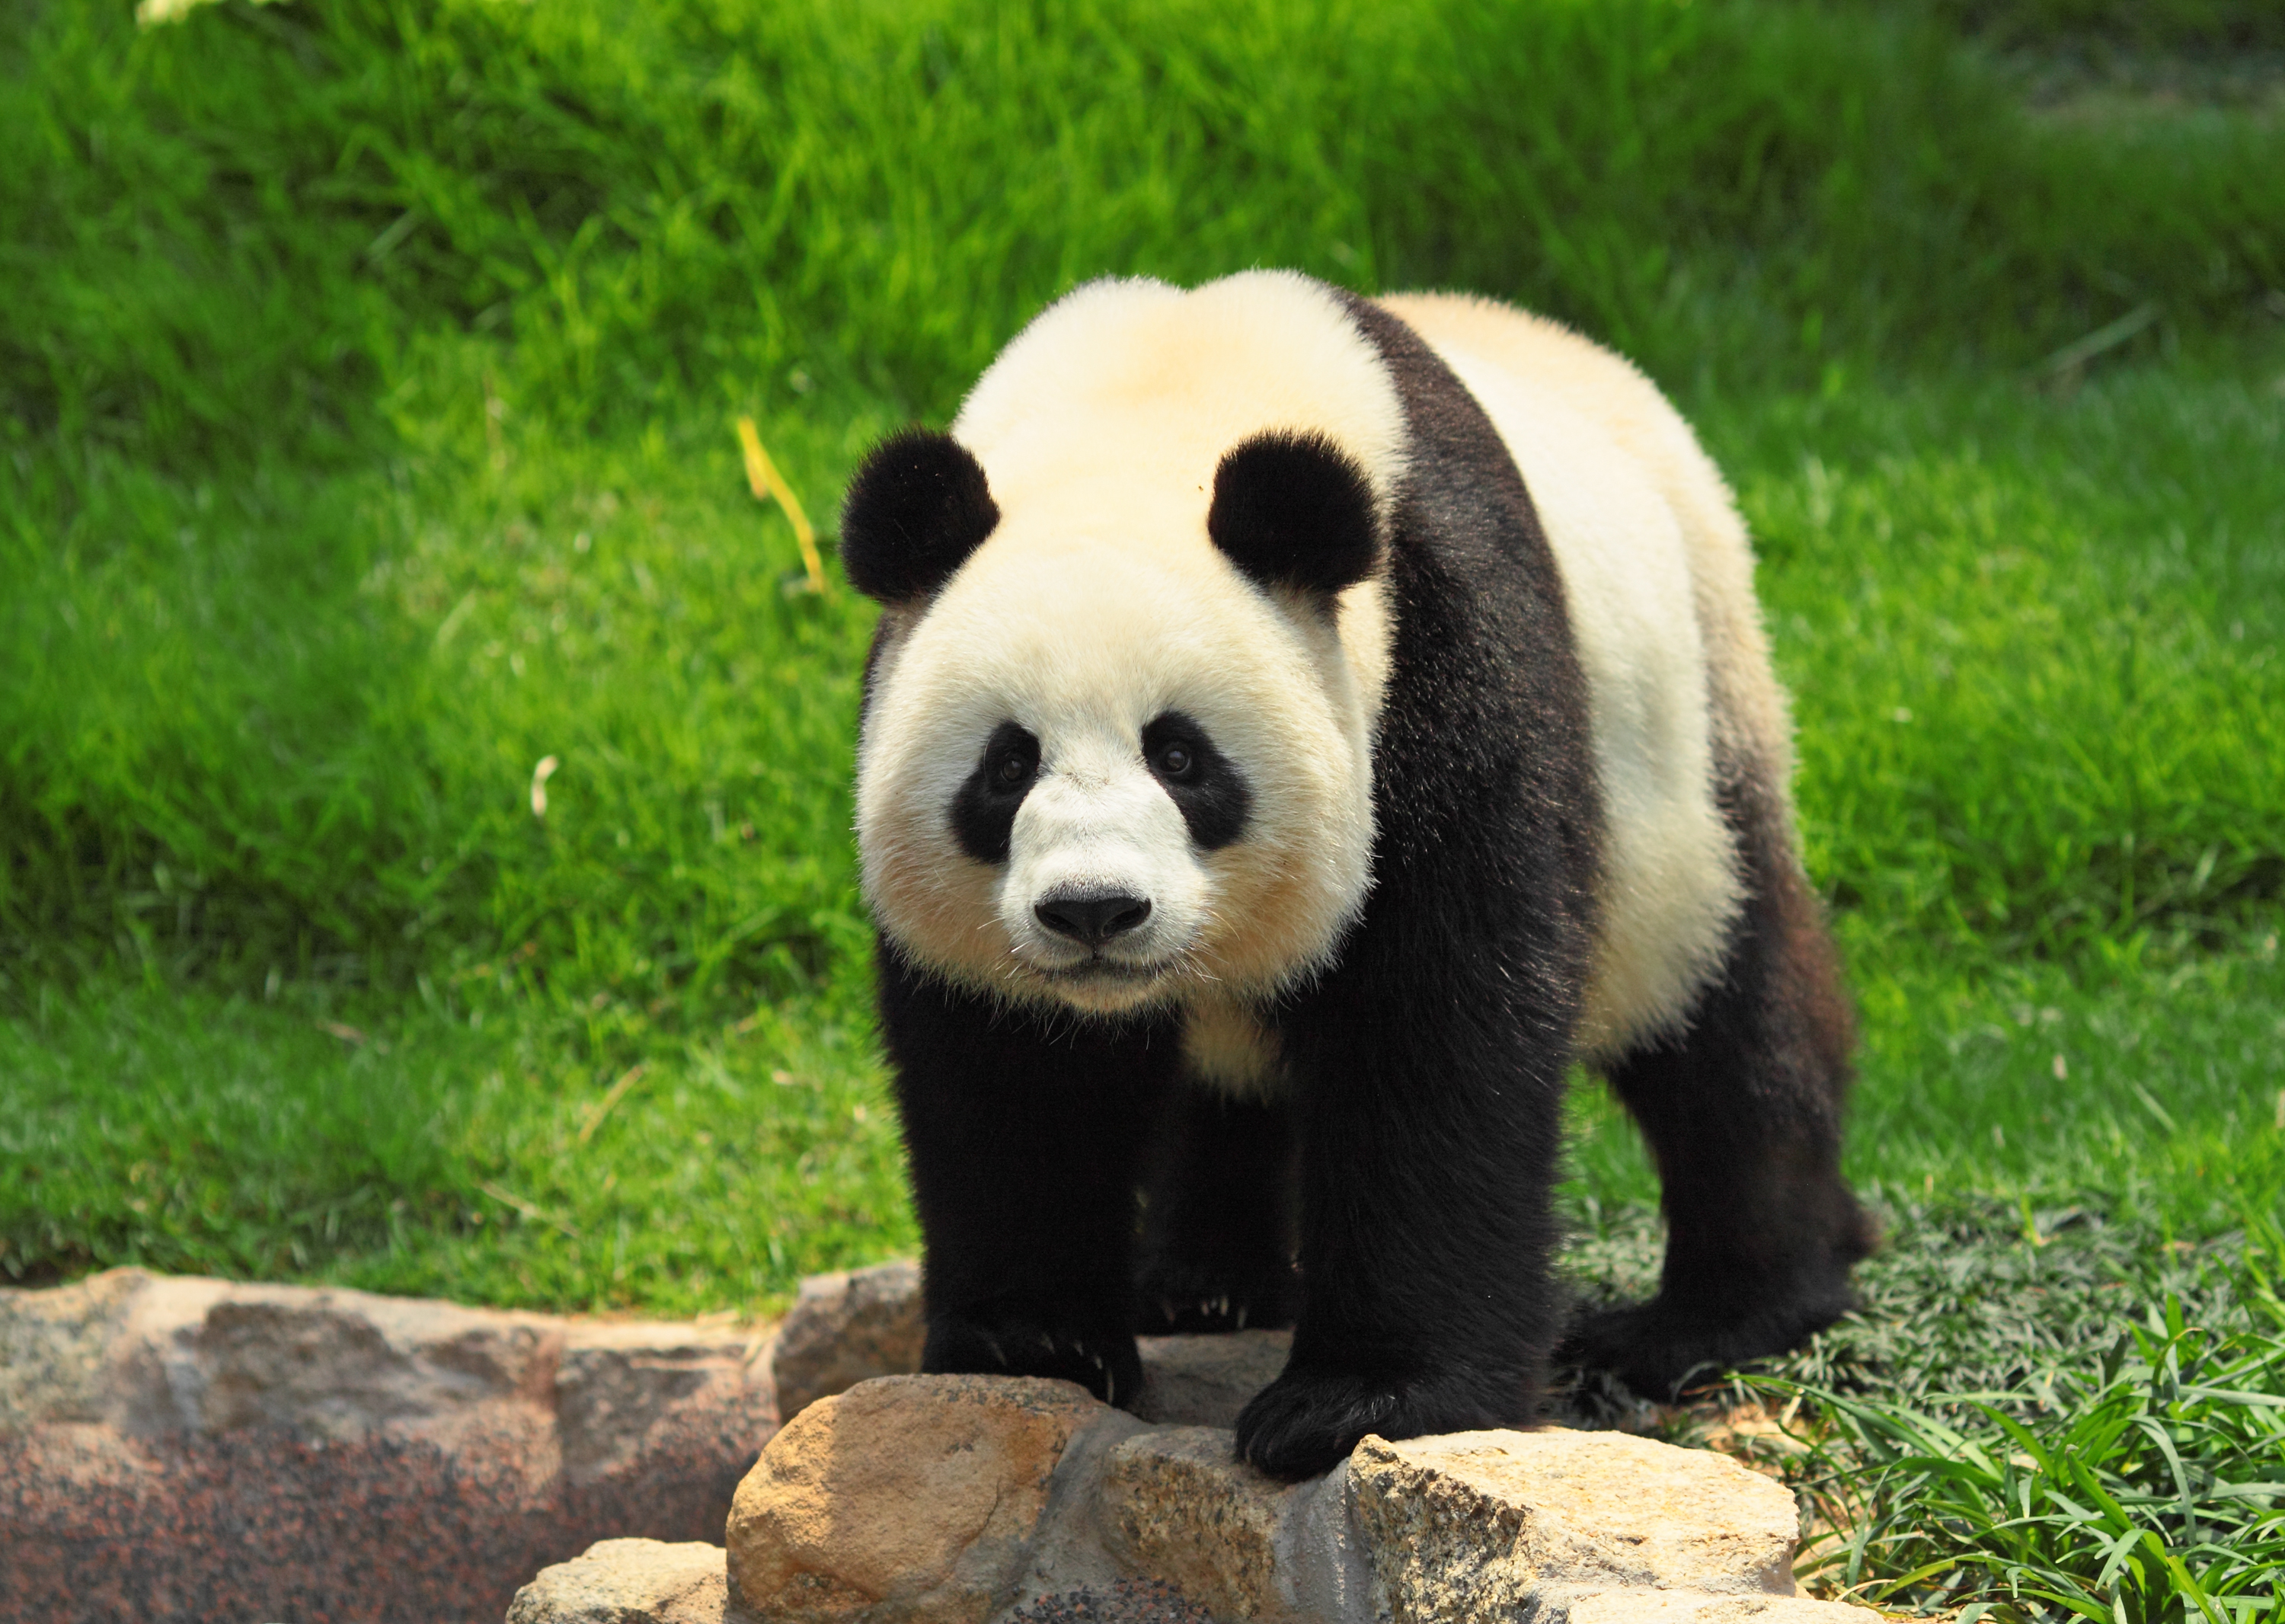panda: (803, 234, 1935, 1417)
